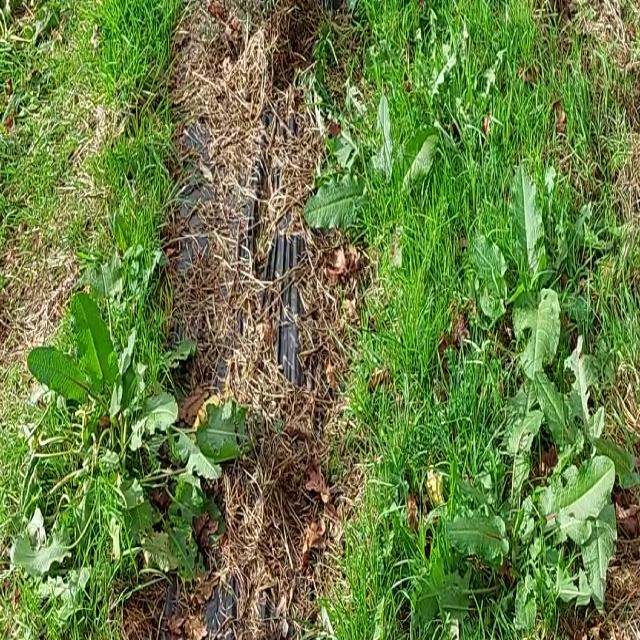organic waste: (28, 255, 238, 600), (442, 425, 612, 616), (316, 74, 448, 275), (457, 160, 575, 380), (537, 337, 640, 508)
